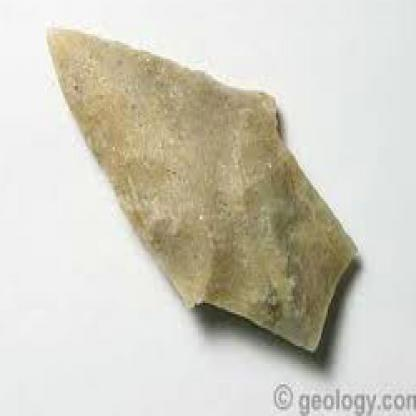Metamorphic_Quartize: (35, 5, 361, 357)
